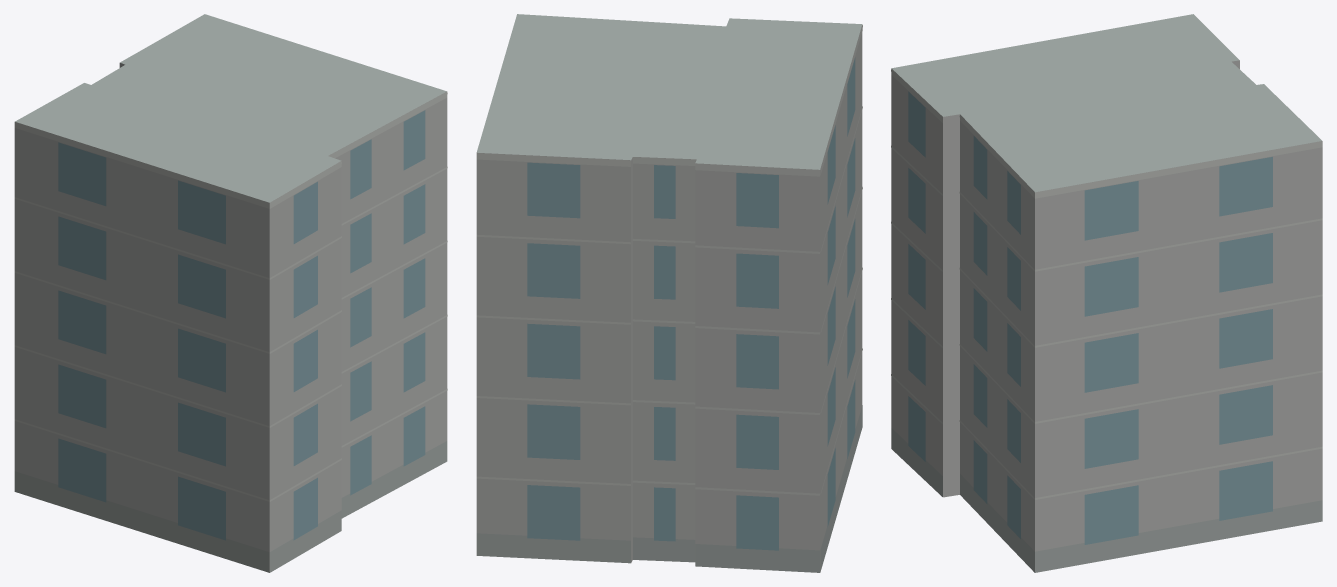
Rendered from survey-upis-33042317.glb.
The picture shows the model from 3 angles, left to right: view 1: azimuth 30°, elevation 25°; view 2: azimuth 150°, elevation 25°; view 3: azimuth 270°, elevation 25°; orthographic projection. The views are drawn at different scales.
Parts seen in each view (by area): view 1: survey-upis-33042317.tmp; view 2: survey-upis-33042317.tmp; view 3: survey-upis-33042317.tmp.
Boxes of the visible parts, box(x1,y1,x2,y2) form: survey-upis-33042317.tmp: box(14, 14, 447, 572); survey-upis-33042317.tmp: box(476, 14, 862, 572); survey-upis-33042317.tmp: box(891, 14, 1322, 572).
Bounding box in the file's own units: 14.6 × 14.5 × 14.91.
